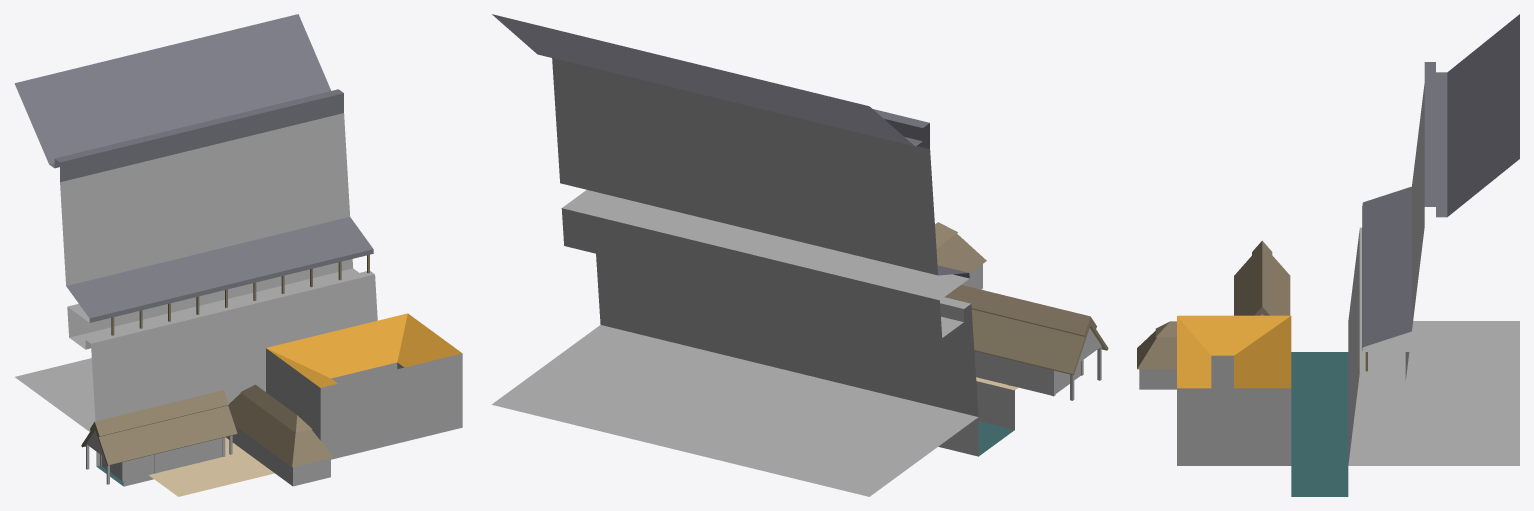
3 renders of one model, left to right at view 1: azimuth 30°, elevation 25°; view 2: azimuth 150°, elevation 25°; view 3: azimuth 270°, elevation 25°, orthographic. The views are drawn at different scales.
Visible parts, largest first — view 1: cc21; view 2: cc21; view 3: cc21.
Boxes of the visible parts, left/top/right/bottom form: cc21: left=14, top=14, right=462, bottom=496; cc21: left=491, top=14, right=1108, bottom=496; cc21: left=1137, top=14, right=1519, bottom=496.
Size of the model in its own units: 34.54 by 32.63 by 33.48.
